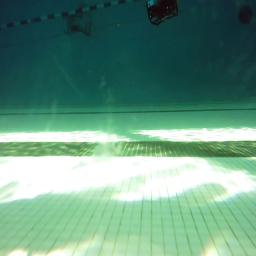front: (144, 0, 180, 26)
